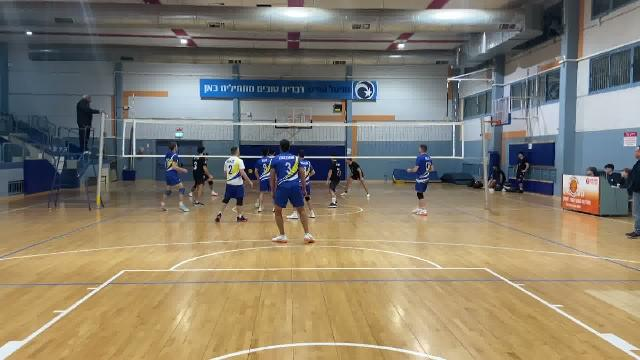ball: (246, 165, 254, 175)
